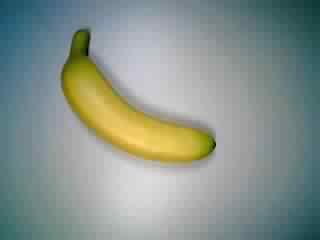banana: (53, 24, 220, 168)
